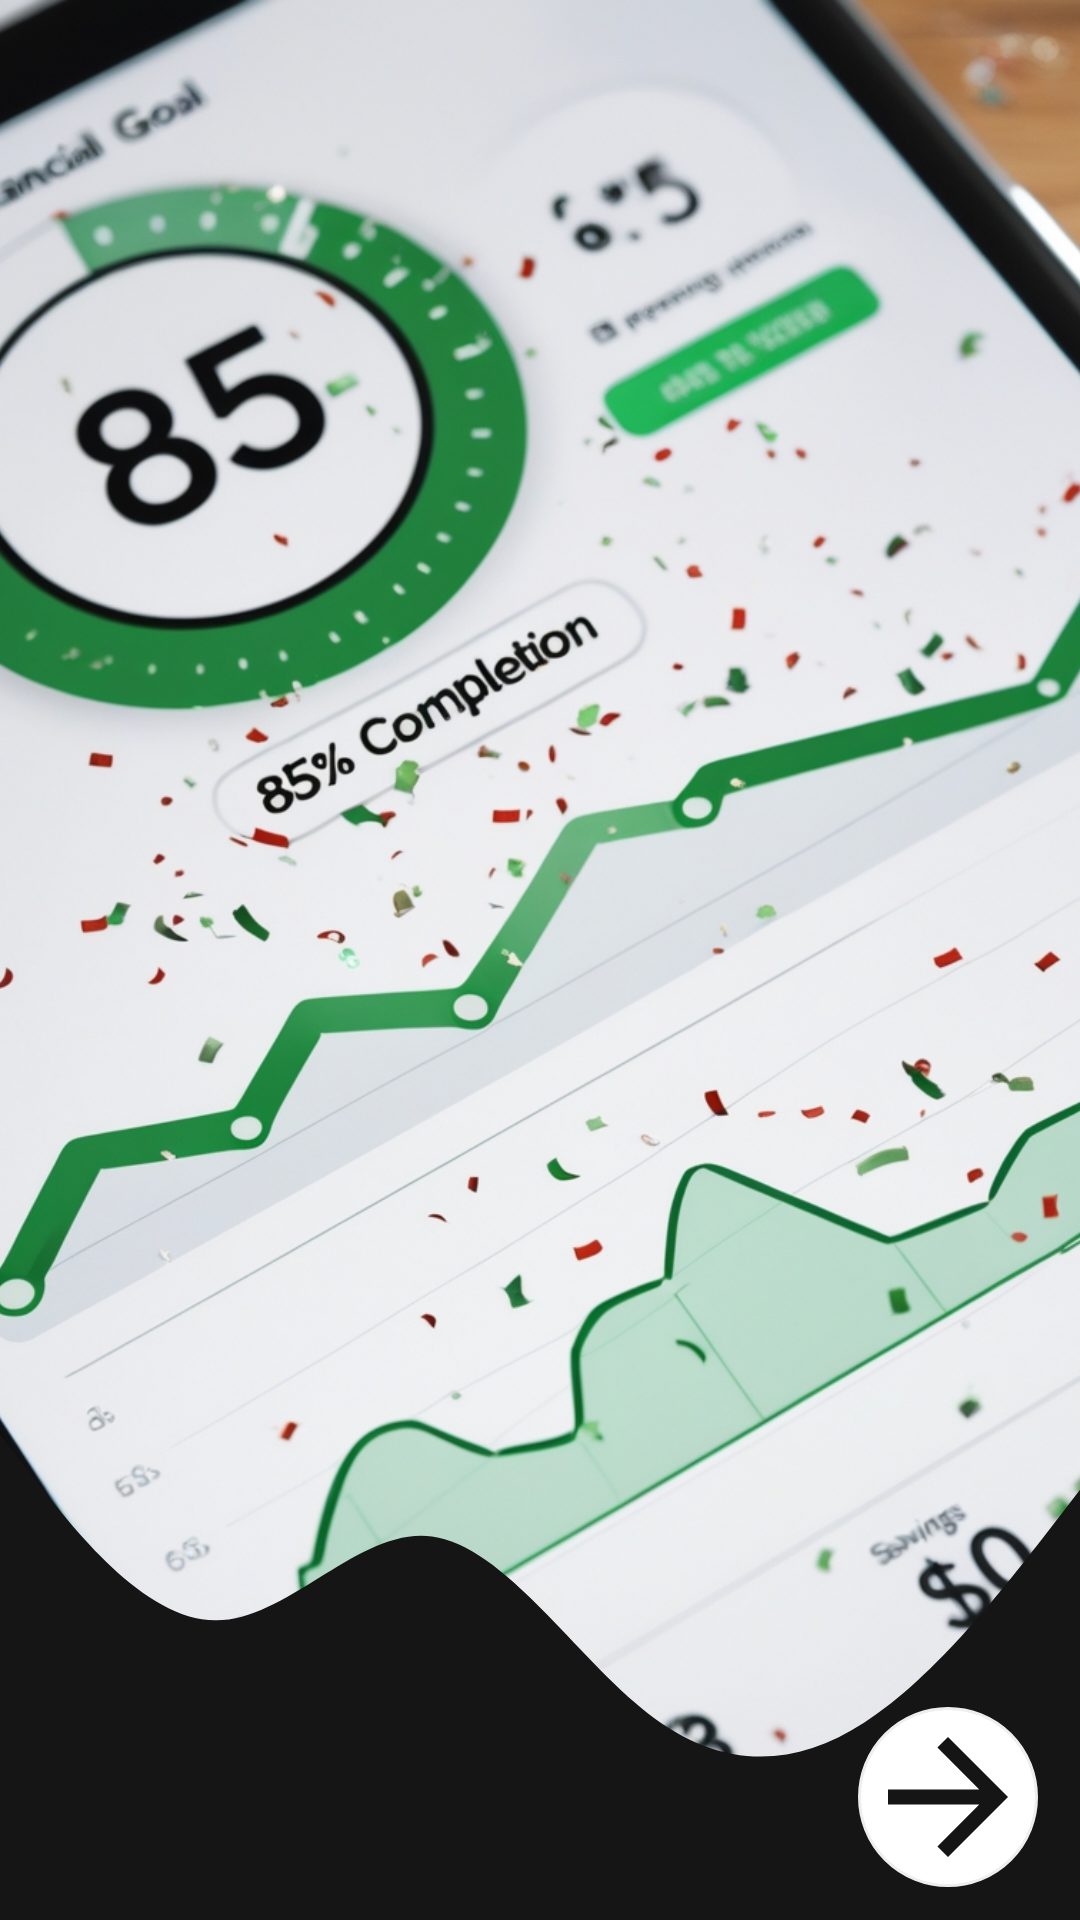

Named icons in this screenshot (1080×1920) and their centers, point (x, y):
Next button: point (948, 1797)
